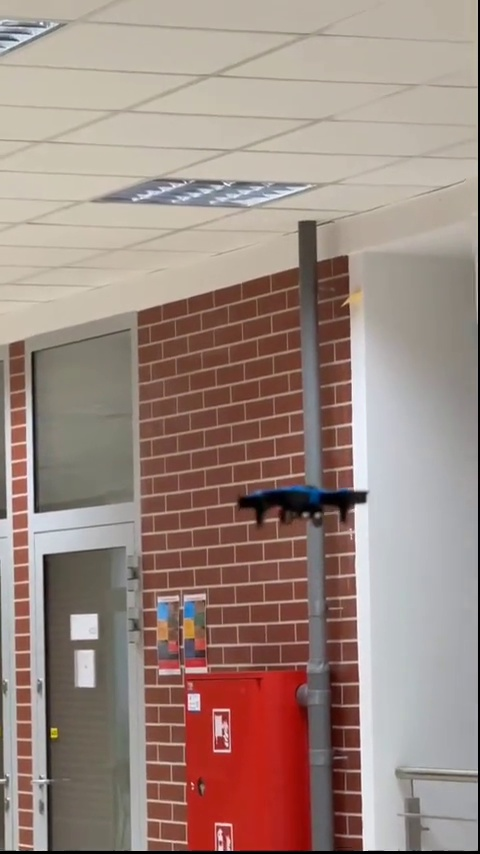drone: (238, 485, 368, 532)
